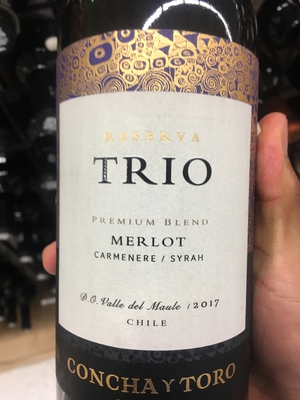trio merlot: (52, 14, 259, 400)
